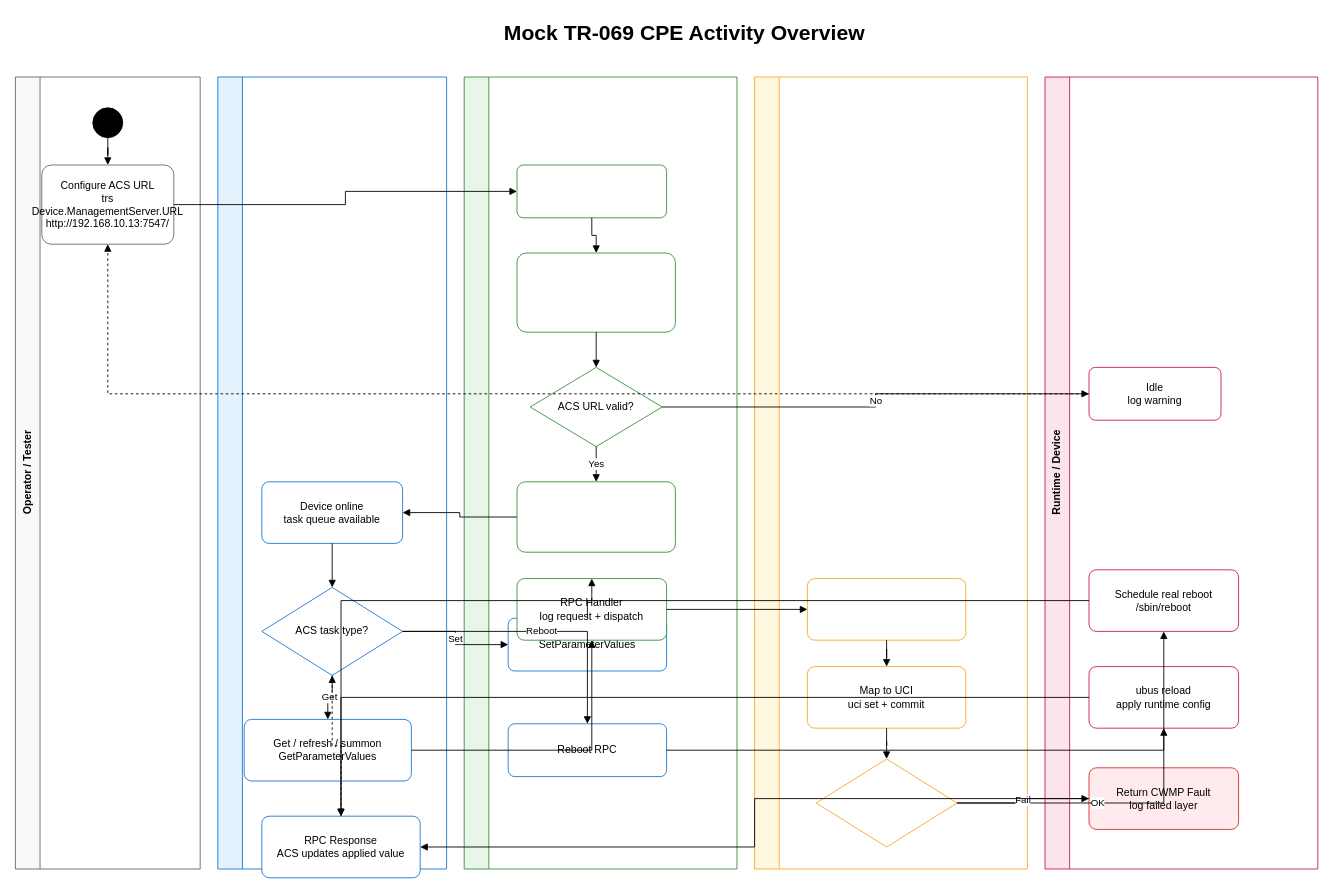
Some shapes in this 1333 by 893 pixel diagram are drawn without their labels. Each missing label, with the box of its shape:
CPE: tr69d / CWMP: (463, 76, 737, 869)
GenieACS / ACS: (217, 76, 447, 869)
Load runtime config ACS URL, credentials, periodic inform, CR server: (516, 252, 675, 332)
Read-back verification expected == applied?: (815, 758, 957, 847)
Send Inform BOOT / VALUE CHANGE / PERIODIC: (516, 481, 675, 552)
Start / reload tr69d: (516, 164, 667, 218)
Transformer / UCI: (754, 76, 1027, 869)
Transformer validate path, type, range: (807, 578, 966, 640)
